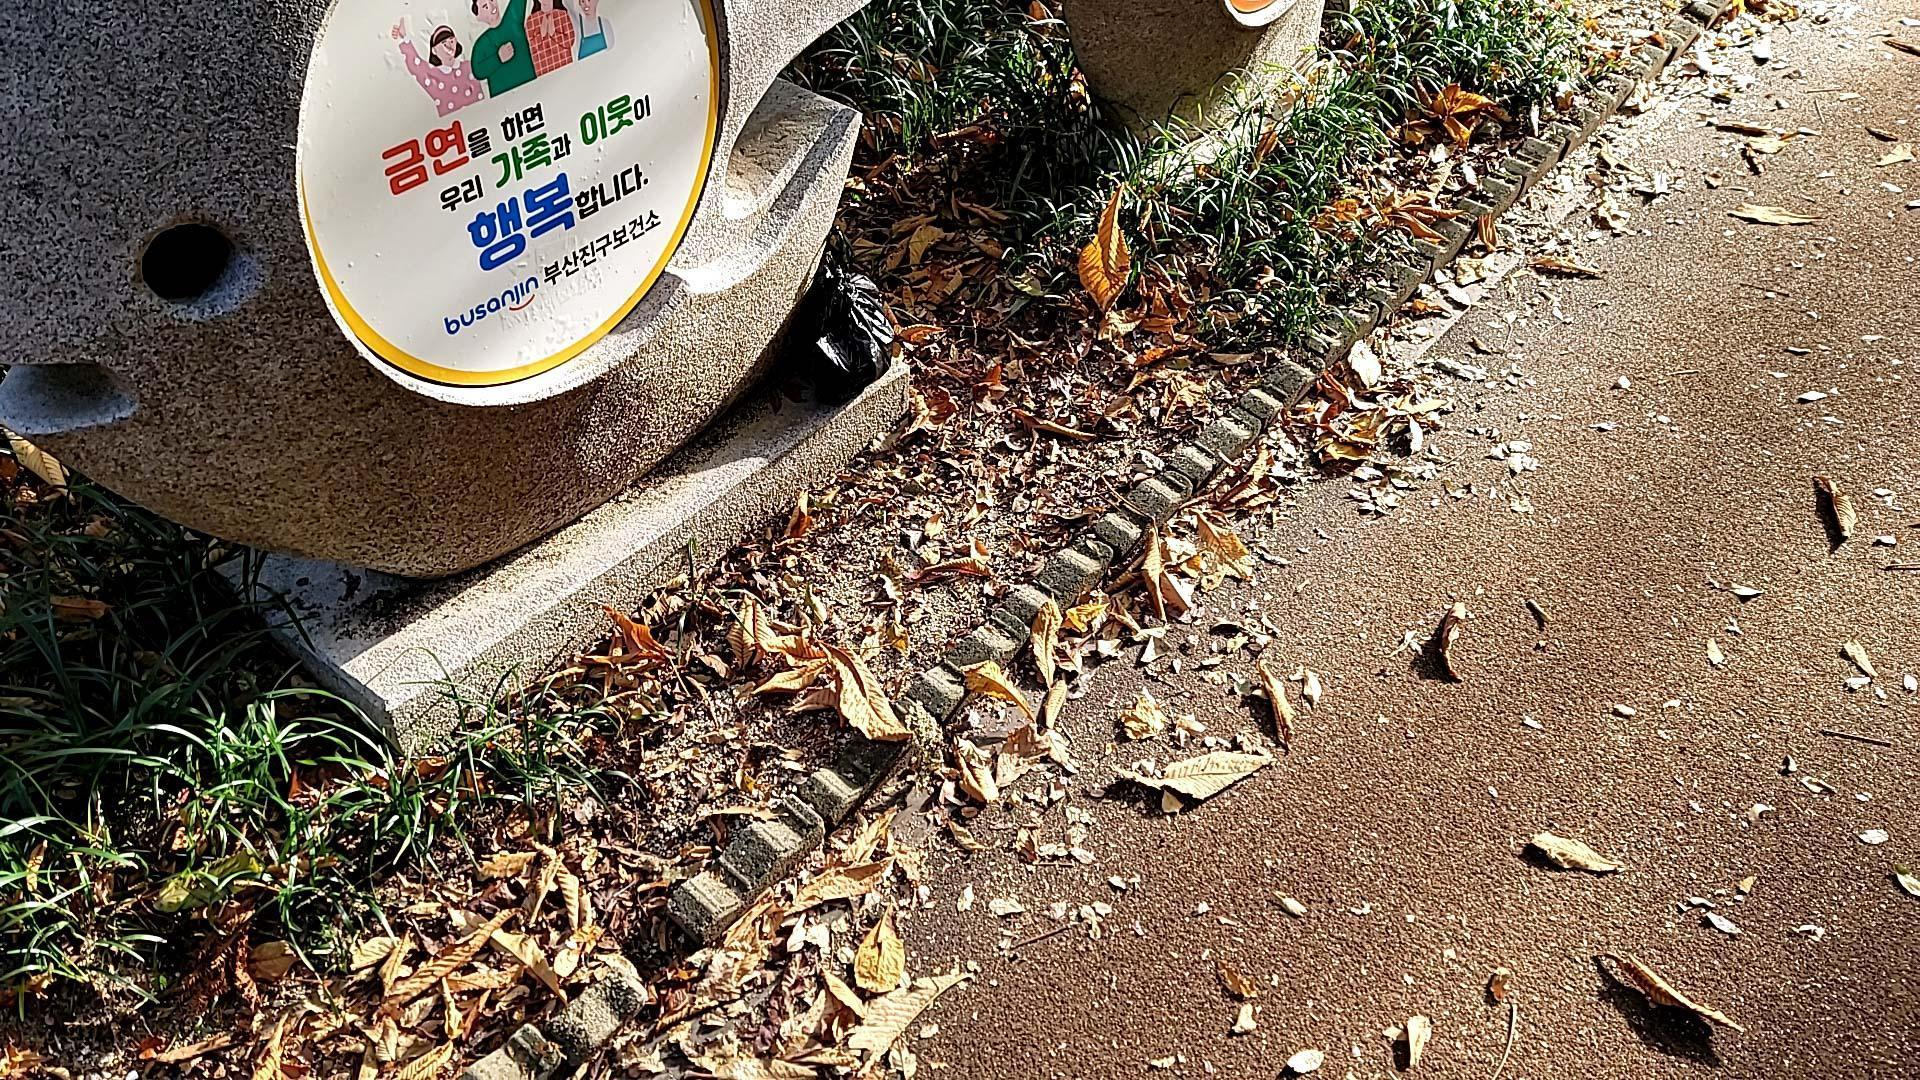black_bag: (777, 256, 897, 400)
